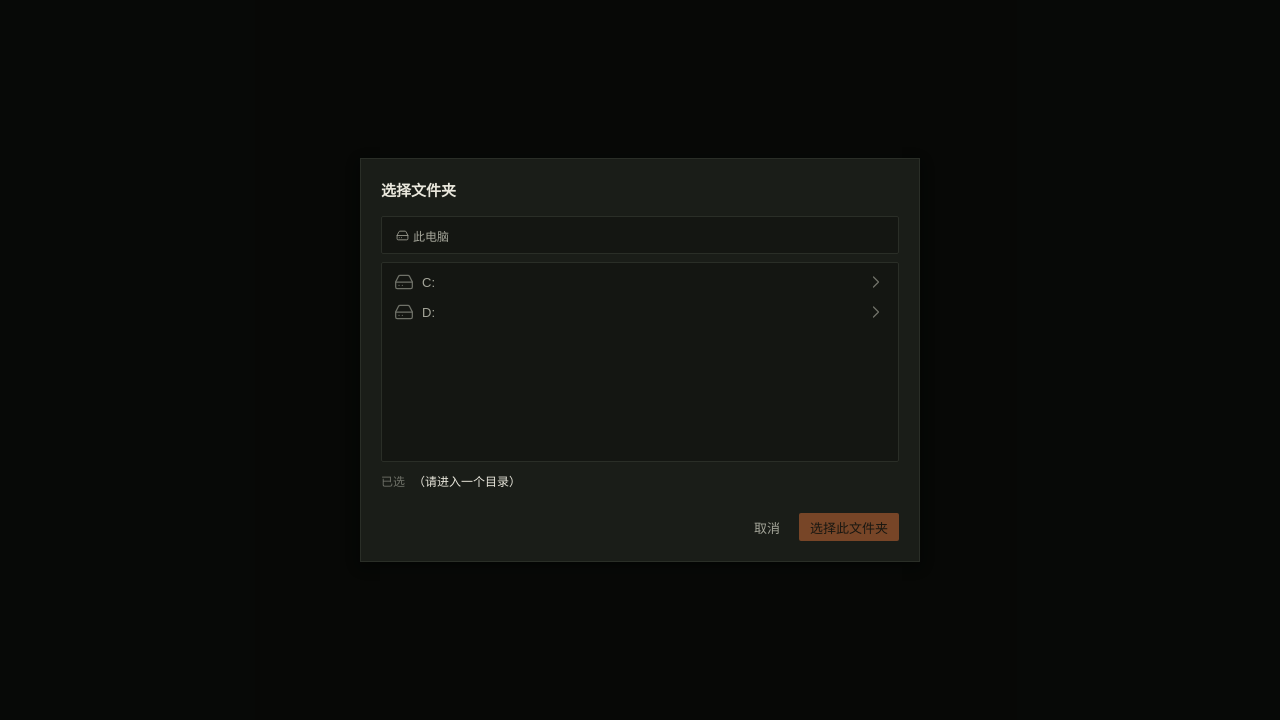
FolderPickerModal › 截断 → 底部提示；denied 行置灰不可进
Click the button "D:". click: coordinates (404, 312)
box: 386,297 -> 894,327
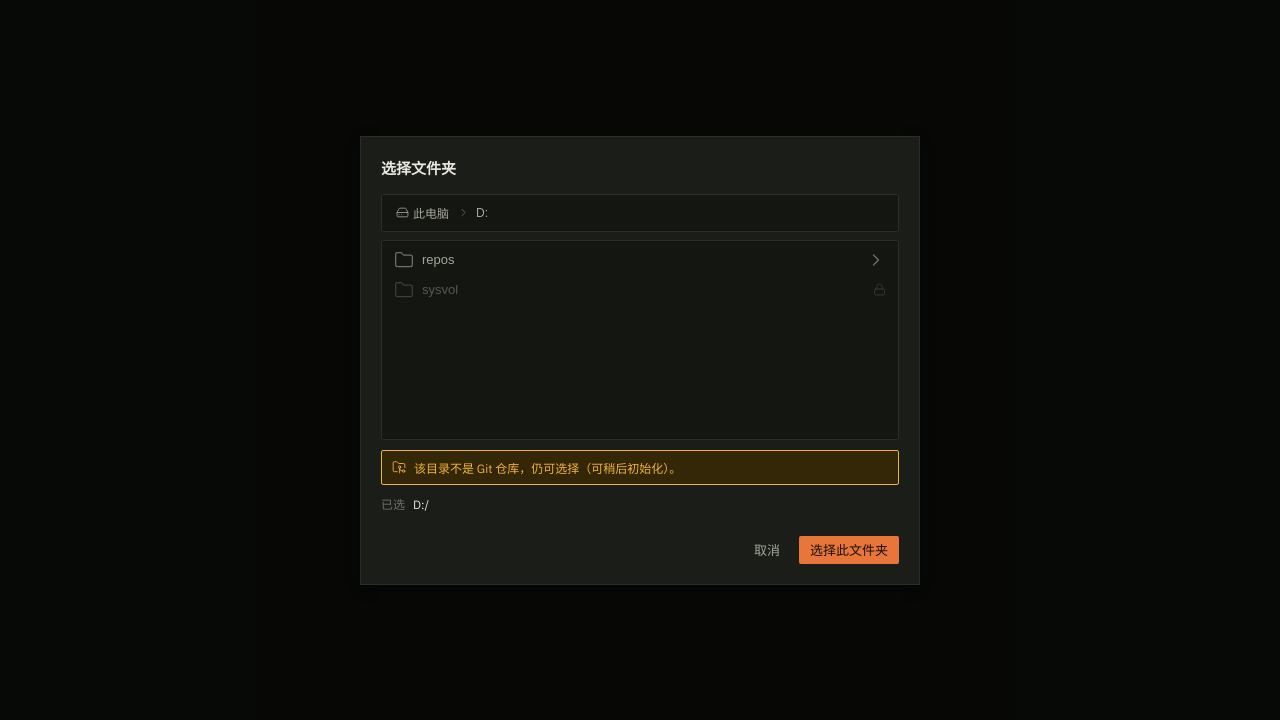
Expected: the button "sysvol" is disabled, 386,274 -> 894,304
# 进入 repos → 截断提示。
Click the button "repos". click: coordinates (438, 260)
box: 386,244 -> 894,274
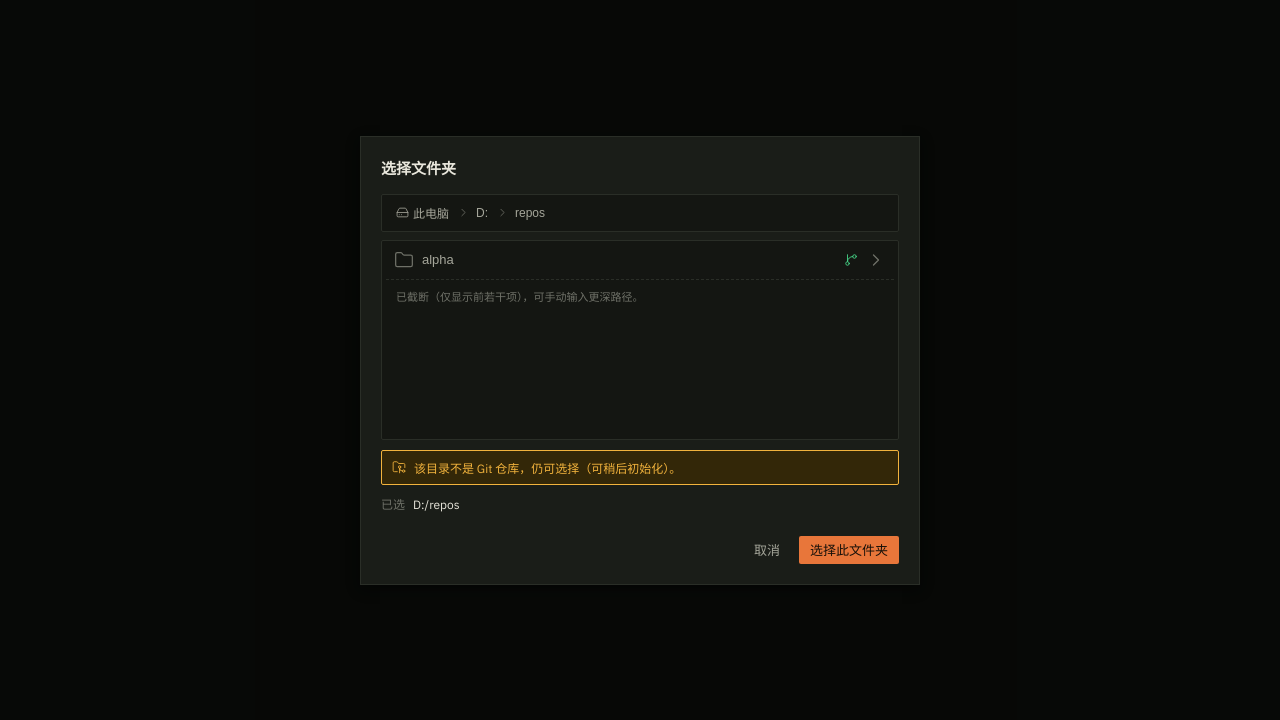
Expected: the text "已截断（仅显示前若干项），可手动输入更深路径。" is shown, 386,278 -> 894,312
